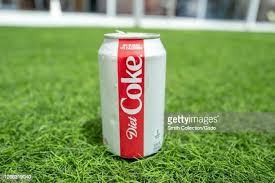can: (94, 28, 168, 160)
